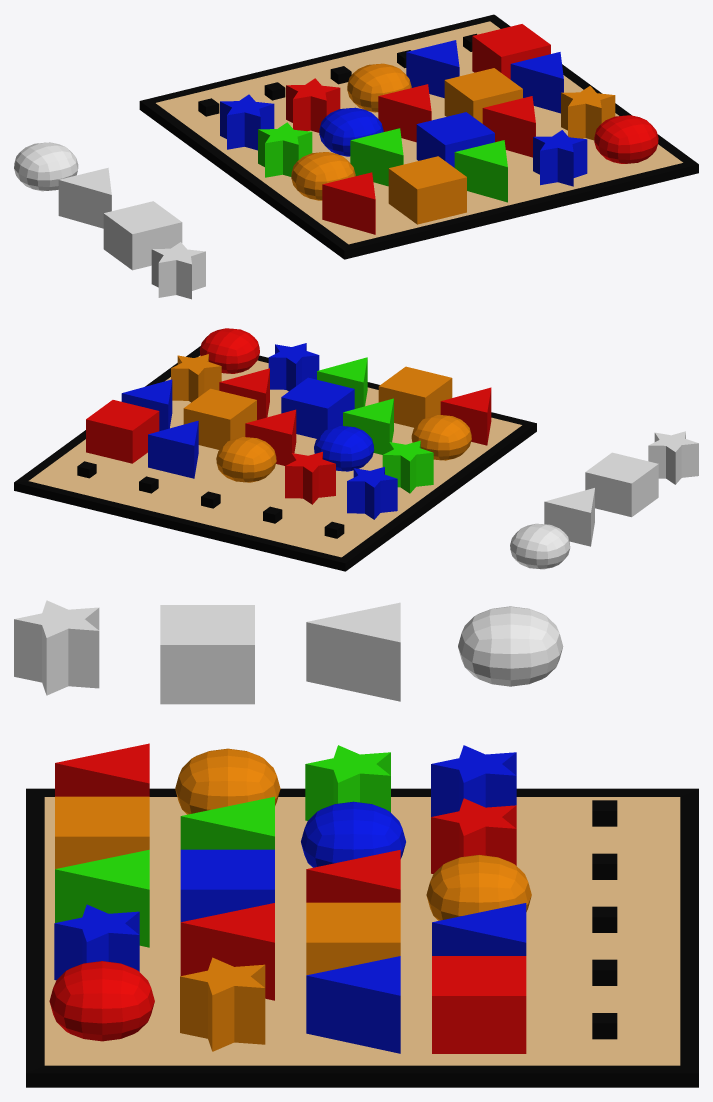
Rendered from shape_board.fbx.
3 renders of one model, top to bottom at view 1: azimuth 30°, elevation 25°; view 2: azimuth 150°, elevation 25°; view 3: azimuth 270°, elevation 25°, orthographic. The views are drawn at different scales.
Visible parts, largest first — view 1: Shape Cipher Board, Cube.002, Solution Cube, Cube.004, Cube.001, Cube.003, Triangle.002, Solution Triangle, Sphere.001, Solution Star, Star.001, Triangle.001 (+13 smaller); view 2: Shape Cipher Board, Solution Cube, Cube.003, Cube.002, Cube.004, Cube.001, Triangle.007, Sphere.004, Solution Sphere, Star.004, Star.005, Solution Triangle (+13 smaller); view 3: Shape Cipher Board, Solution Cube, Cube.003, Solution Triangle, Triangle.005, Sphere.001, Solution Sphere, Solution Star, Star.002, Cube.004, Cube.001, Cube.002 (+13 smaller).
Part boxes in pixels (bbox=[...]): Shape Cipher Board: bbox=[139, 14, 698, 259]; Cube.002: bbox=[388, 156, 466, 224]; Solution Cube: bbox=[103, 201, 182, 270]; Cube.004: bbox=[444, 68, 522, 123]; Cube.001: bbox=[416, 112, 494, 167]; Cube.003: bbox=[472, 24, 550, 79]; Triangle.002: bbox=[322, 172, 375, 234]; Solution Triangle: bbox=[58, 167, 111, 228]; Sphere.001: bbox=[594, 115, 658, 163]; Solution Star: bbox=[151, 242, 205, 299]; Star.001: bbox=[533, 130, 587, 186]; Triangle.001: bbox=[454, 140, 507, 202]; Shape Cipher Board: bbox=[14, 346, 536, 571]; Solution Cube: bbox=[585, 452, 658, 517]; Cube.003: bbox=[86, 400, 159, 463]; Cube.002: bbox=[378, 366, 452, 427]; Cube.004: bbox=[183, 388, 256, 449]; Cube.001: bbox=[281, 377, 354, 438]; Triangle.007: bbox=[148, 420, 198, 478]; Sphere.004: bbox=[216, 437, 276, 482]; Solution Sphere: bbox=[510, 523, 570, 569]; Star.004: bbox=[285, 451, 335, 504]; Star.005: bbox=[347, 467, 397, 519]; Solution Triangle: bbox=[544, 488, 594, 546]; Shape Cipher Board: bbox=[26, 788, 698, 1087]; Solution Cube: bbox=[160, 605, 254, 704]; Cube.003: bbox=[432, 956, 526, 1053]; Solution Triangle: bbox=[306, 602, 400, 701]; Triangle.005: bbox=[306, 956, 400, 1053]; Sphere.001: bbox=[49, 961, 154, 1041]; Solution Sphere: bbox=[458, 606, 563, 686]; Solution Star: bbox=[14, 600, 99, 695]; Star.002: bbox=[180, 957, 265, 1051]; Cube.004: bbox=[306, 902, 400, 975]; Cube.001: bbox=[180, 849, 274, 921]; Cube.002: bbox=[55, 796, 149, 868].
Bounding box in the file's own units: 807 × 70.26 × 545.
